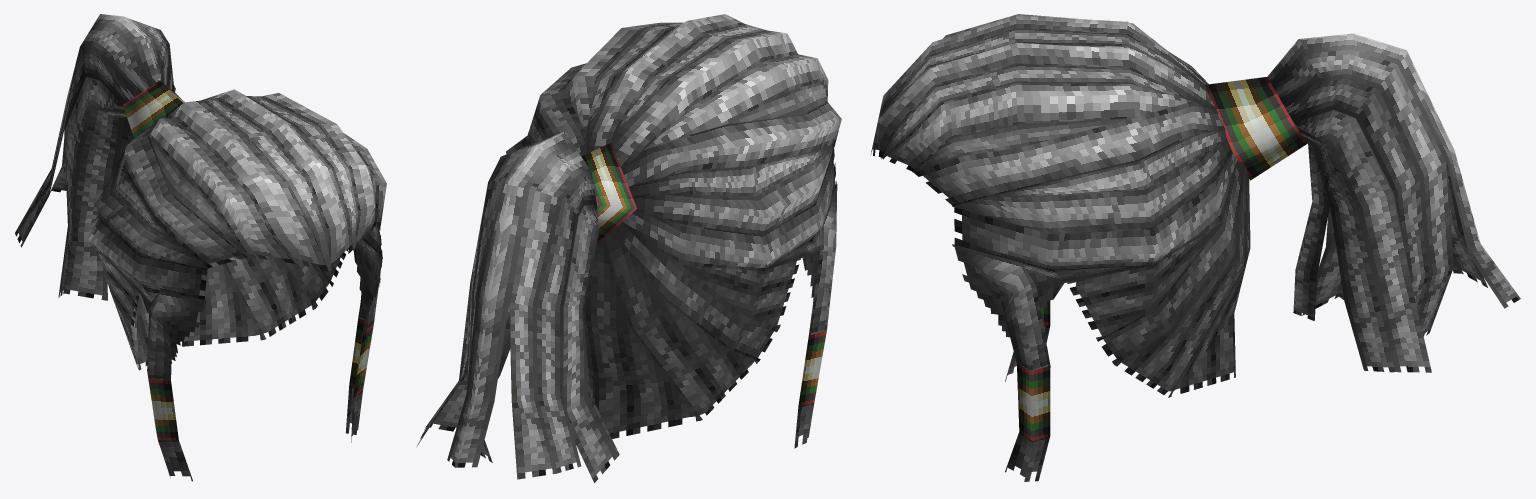
3 renders of one model, left to right at view 1: azimuth 30°, elevation 25°; view 2: azimuth 150°, elevation 25°; view 3: azimuth 270°, elevation 25°, orthographic. The views are drawn at different scales.
Visible parts, largest first — view 1: mesh00; view 2: mesh00; view 3: mesh00.
Boxes of the visible parts, x1,y1,x2,y2 form: mesh00: [15, 14, 386, 481]; mesh00: [417, 14, 841, 482]; mesh00: [870, 14, 1520, 481].
Bounding box in the file's own units: 16.81 × 23.12 × 34.03.
